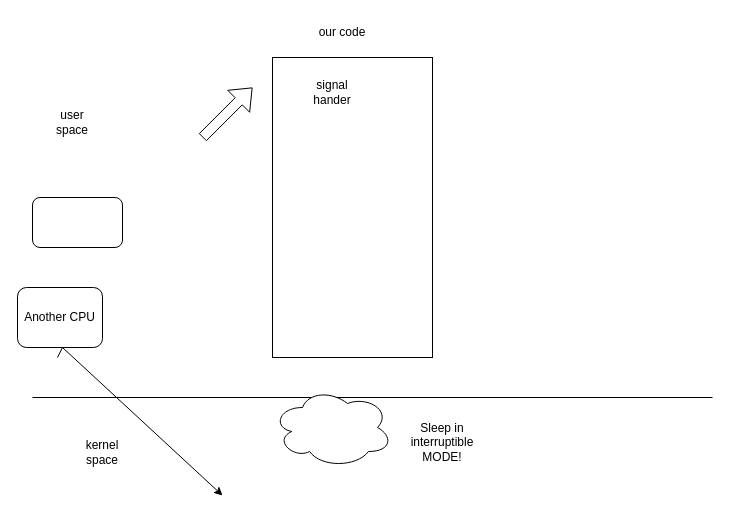
The diagram is 731 pixels wide and 521 high, and some of its shapes have lost their labels. The shapes that lost their labels are listed below. From the top down, each one's centre as x and y in pixels, then its label:
pixel 77 222: CPU
pixel 332 427: Zzzzz....
